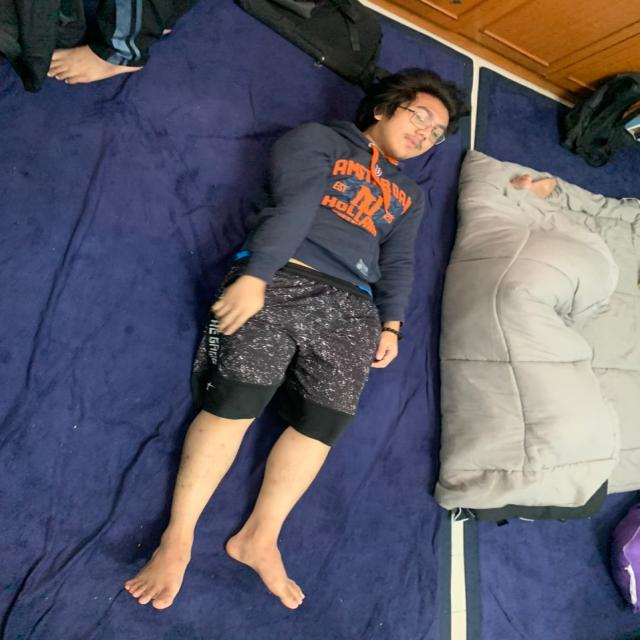Fall-Detected: (156, 69, 463, 609)
